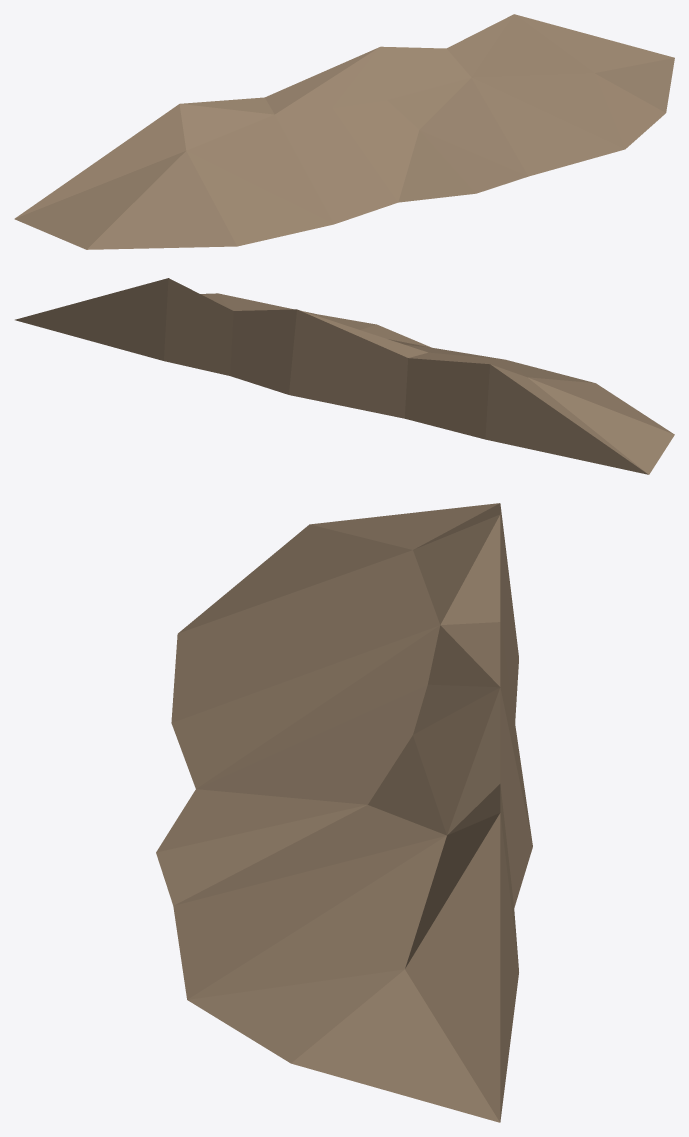
The model's file is SM_Env_SandEdge_03.glb.
The picture shows the model from 3 angles, top to bottom: view 1: azimuth 30°, elevation 25°; view 2: azimuth 150°, elevation 25°; view 3: azimuth 270°, elevation 25°; orthographic projection. The views are drawn at different scales.
Parts seen in each view (by area): view 1: SM_Env_SandEdge_03; view 2: SM_Env_SandEdge_03; view 3: SM_Env_SandEdge_03.
Part boxes in pixels (<box>): SM_Env_SandEdge_03: <box>14,14,674,249</box>; SM_Env_SandEdge_03: <box>15,278,674,474</box>; SM_Env_SandEdge_03: <box>156,503,532,1122</box>.
Size of the model in its own units: 8.11 by 0.9723 by 2.09.
1 material, 1 textured.
